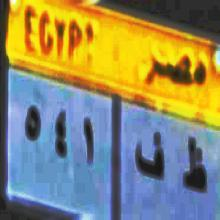1: (79, 113, 96, 167)
4: (53, 102, 68, 162)
5: (23, 100, 41, 152)
Thaa: (181, 135, 208, 195)
faa: (134, 131, 165, 186)
